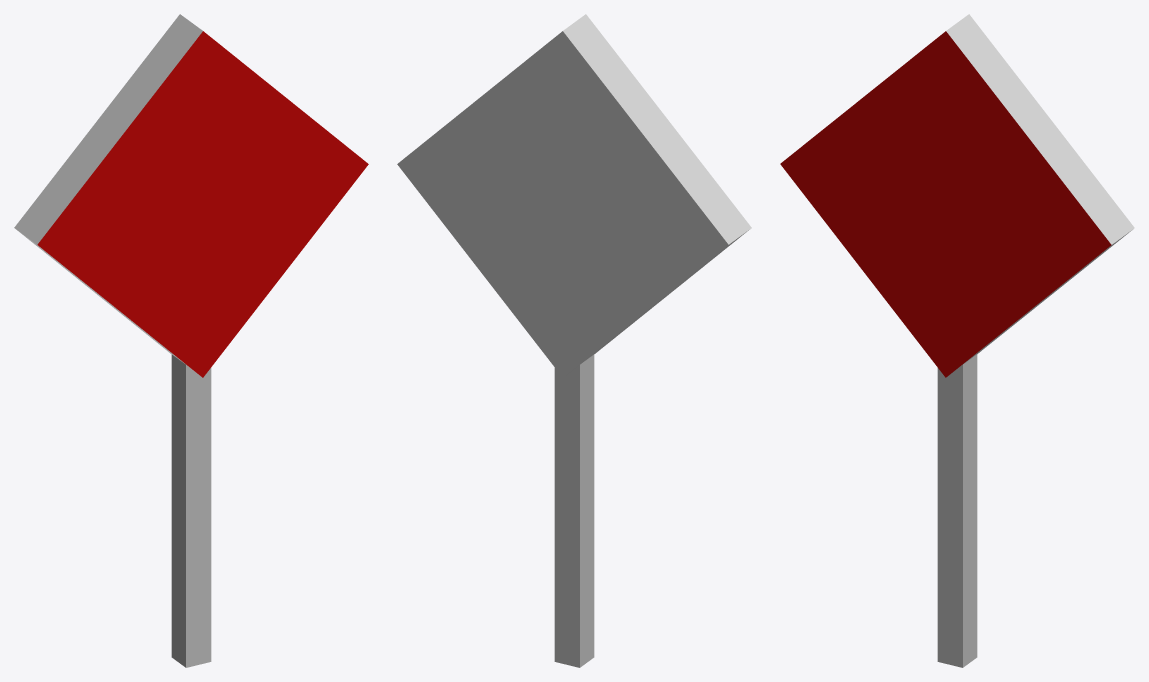
File: dangersign.fbx
3 renders of one model, left to right at view 1: azimuth 30°, elevation 25°; view 2: azimuth 150°, elevation 25°; view 3: azimuth 330°, elevation 25°, orthographic.
Parts seen in each view (by area): view 1: DangerSign; view 2: DangerSign; view 3: DangerSign.
Boxes of the visible parts, x1,y1,x2,y2 form: DangerSign: [14, 14, 368, 667]; DangerSign: [397, 14, 751, 667]; DangerSign: [780, 14, 1134, 667].
Bounding box in the file's own units: 629 × 1155 × 76.28.
